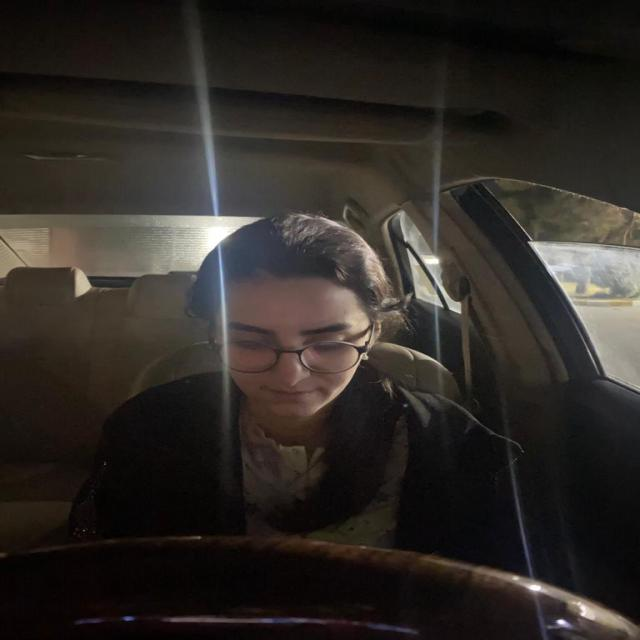drowsy: (191, 228, 390, 420)
